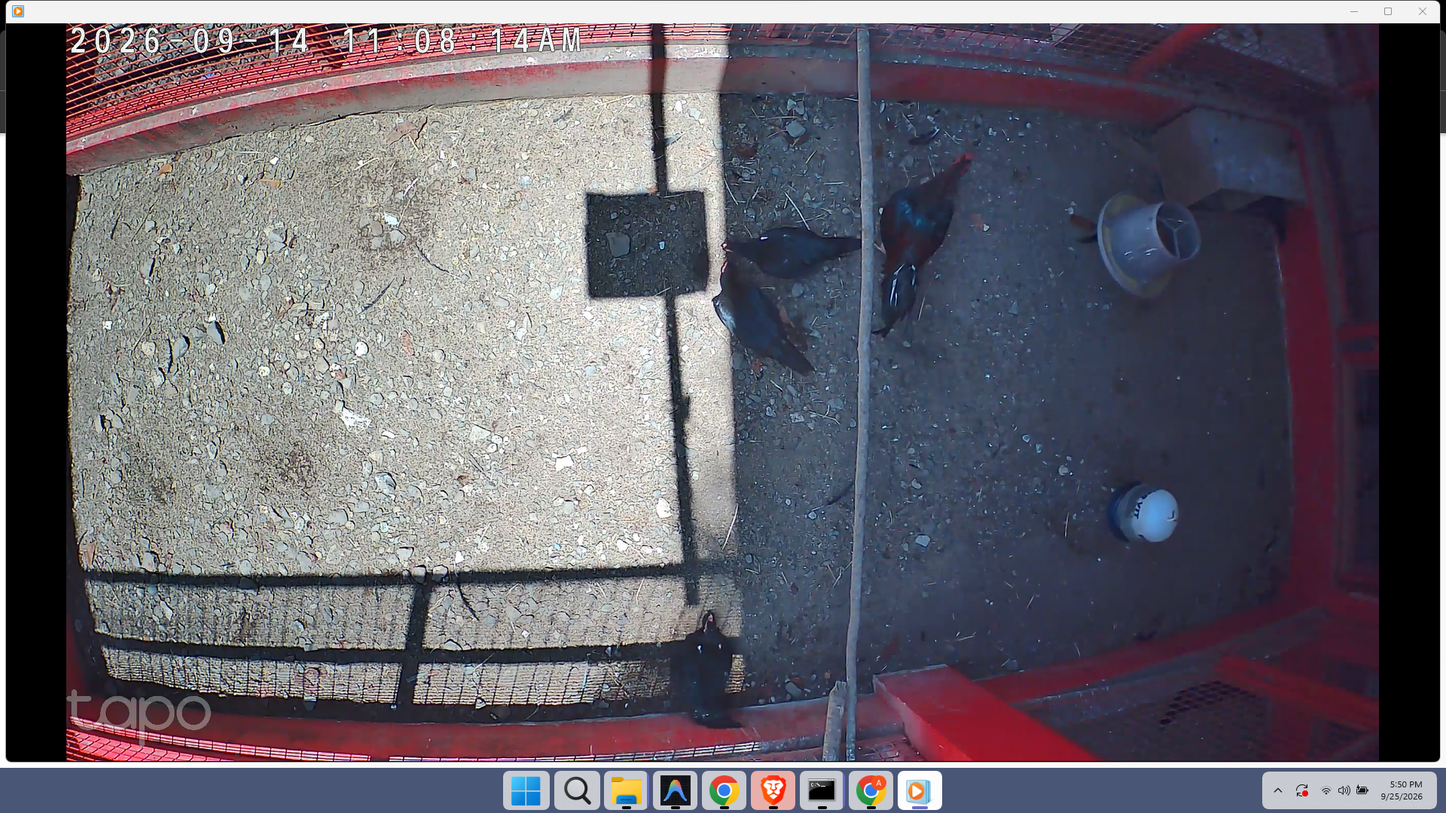Chicken: (713, 257, 818, 378), (716, 220, 861, 279), (679, 612, 746, 729)
Drinker: (1104, 478, 1183, 545)
Feeder: (1093, 187, 1202, 301)
Rooster: (870, 146, 978, 339)
